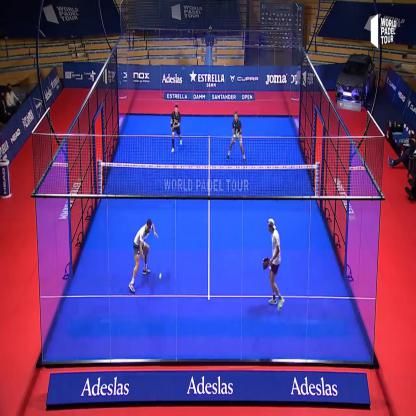ball: (156, 269, 164, 283)
